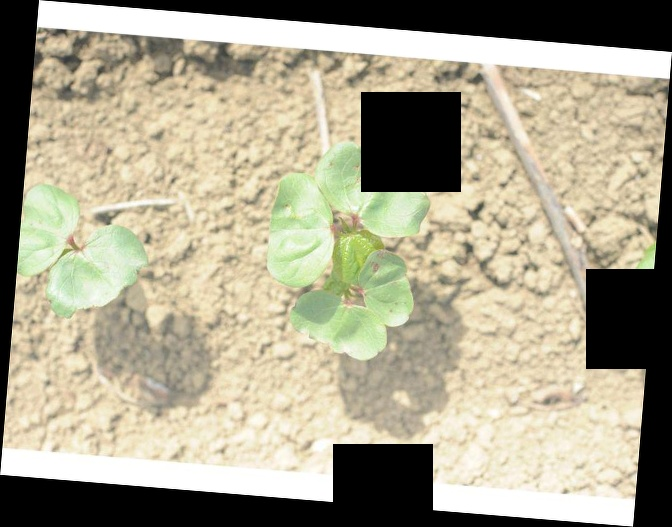cotton: (266, 143, 426, 359), (18, 185, 147, 317)
